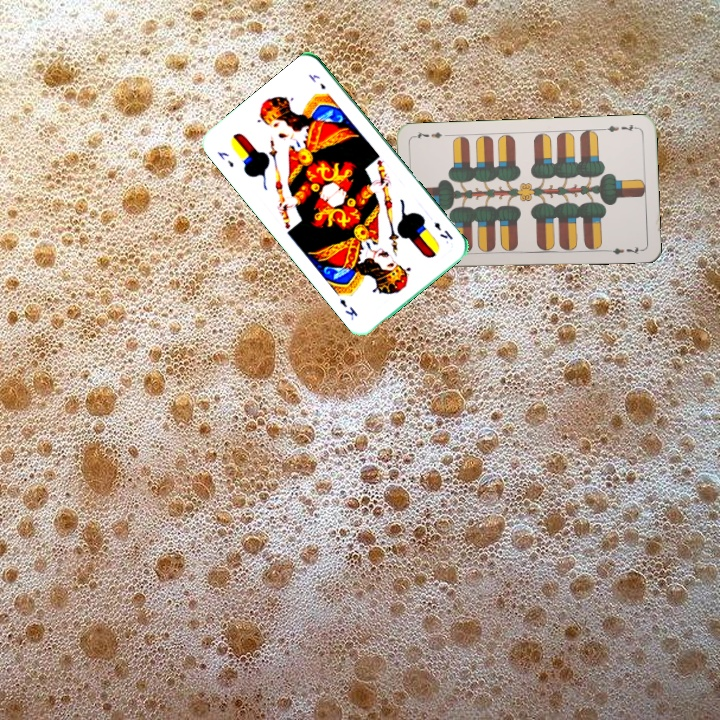E7: (600, 120, 640, 134)
EK: (430, 217, 455, 242), (213, 147, 236, 170)
